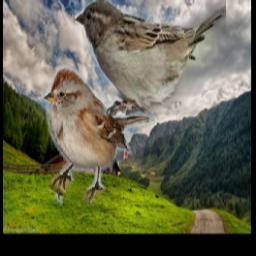Sparrow: (75, 1, 226, 116), (43, 66, 156, 206)
